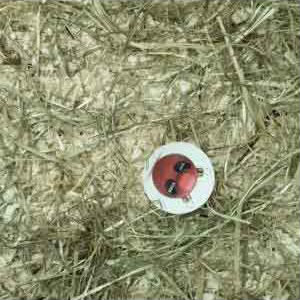badge: (141, 141, 217, 216)
